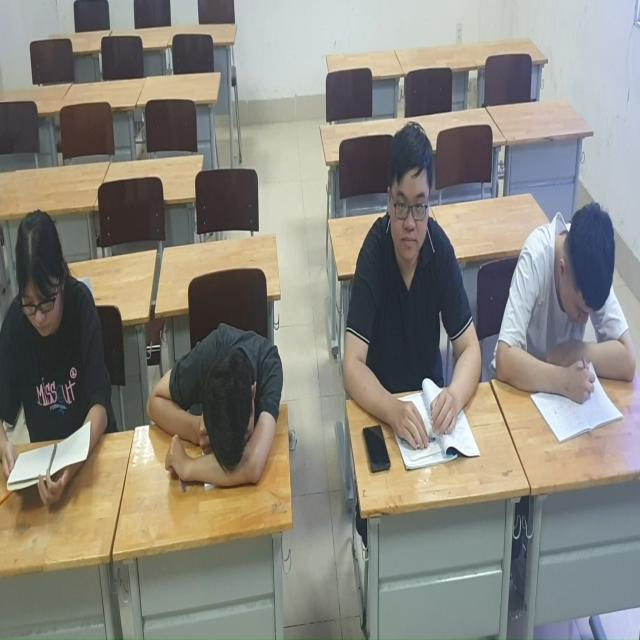read: (333, 109, 488, 481), (486, 156, 635, 438), (1, 204, 128, 502)
sleep: (146, 286, 296, 516)
